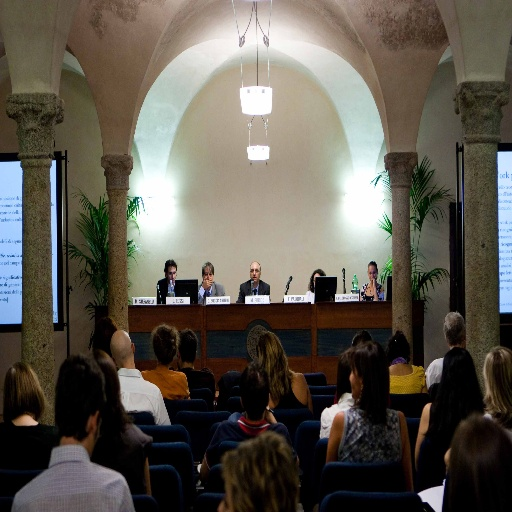hand: (201, 275, 215, 289), (370, 276, 376, 288)
